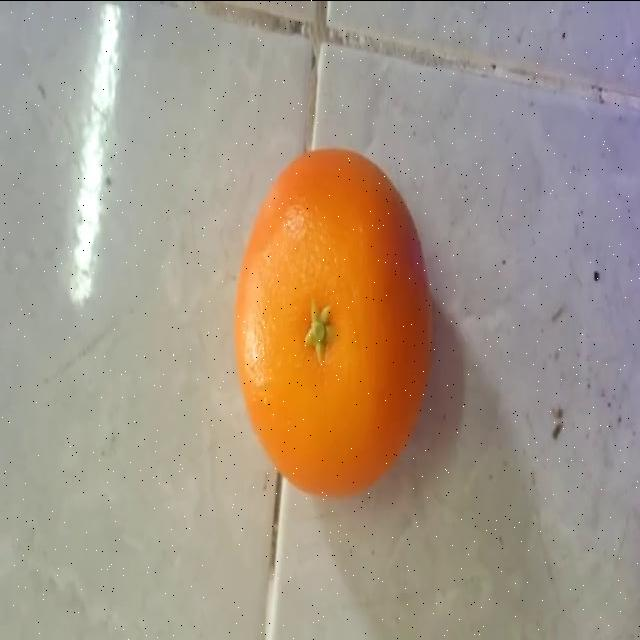Orange: (231, 147, 434, 499)
